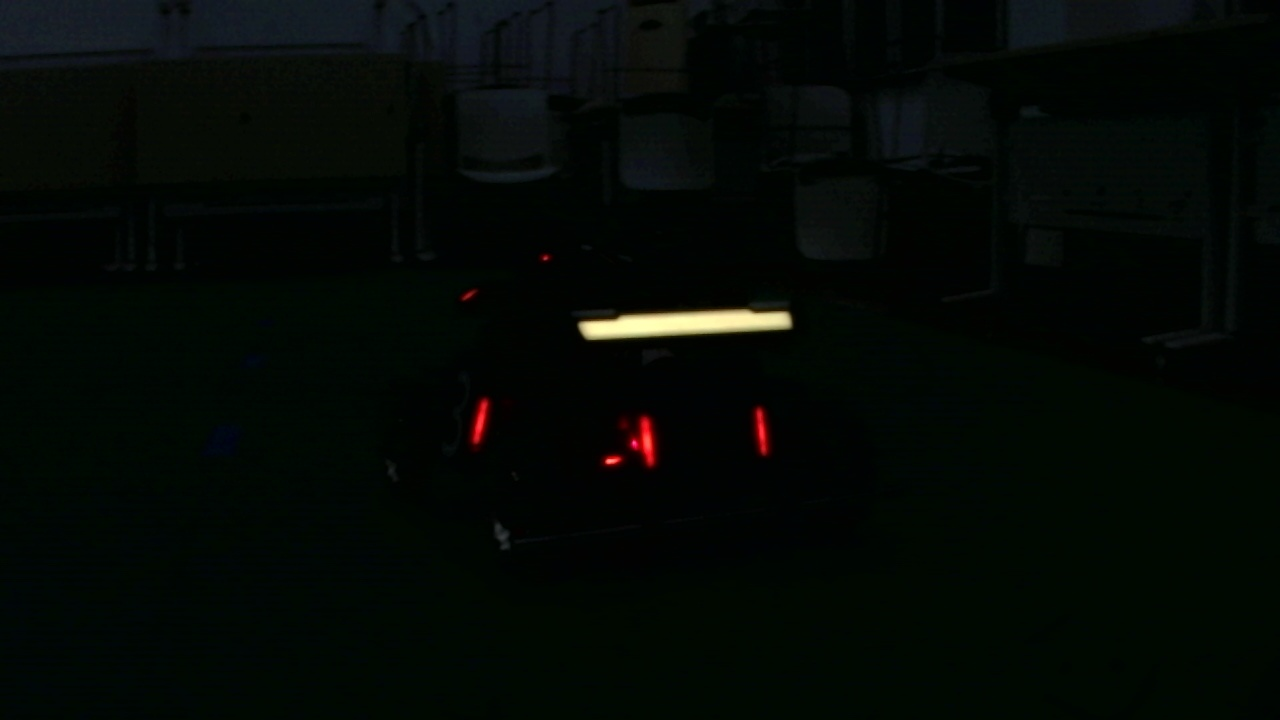lamp: (637, 402, 661, 471), (749, 404, 771, 467), (471, 391, 486, 450)
notpair1: (469, 394, 660, 469)
pair1: (636, 404, 771, 469)
